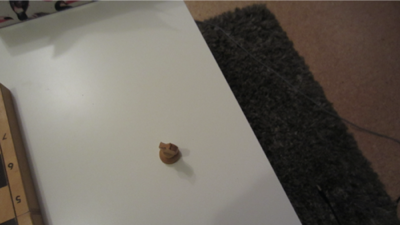white-knight: (159, 142, 181, 165)
